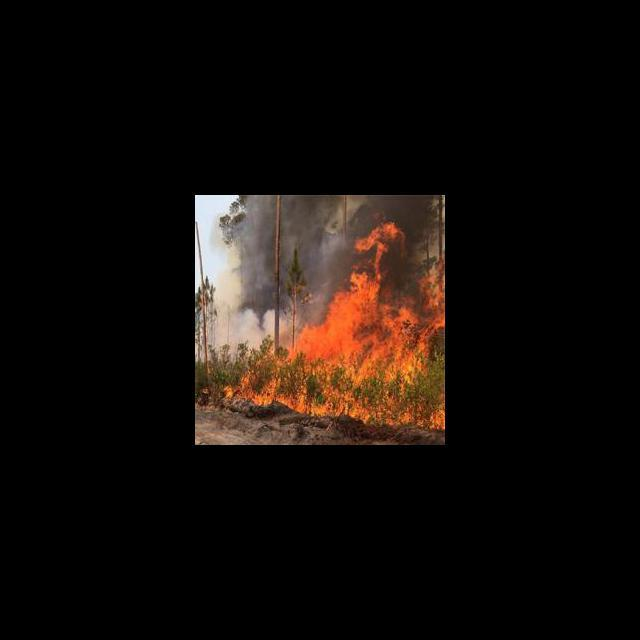Fire: (232, 220, 443, 430)
